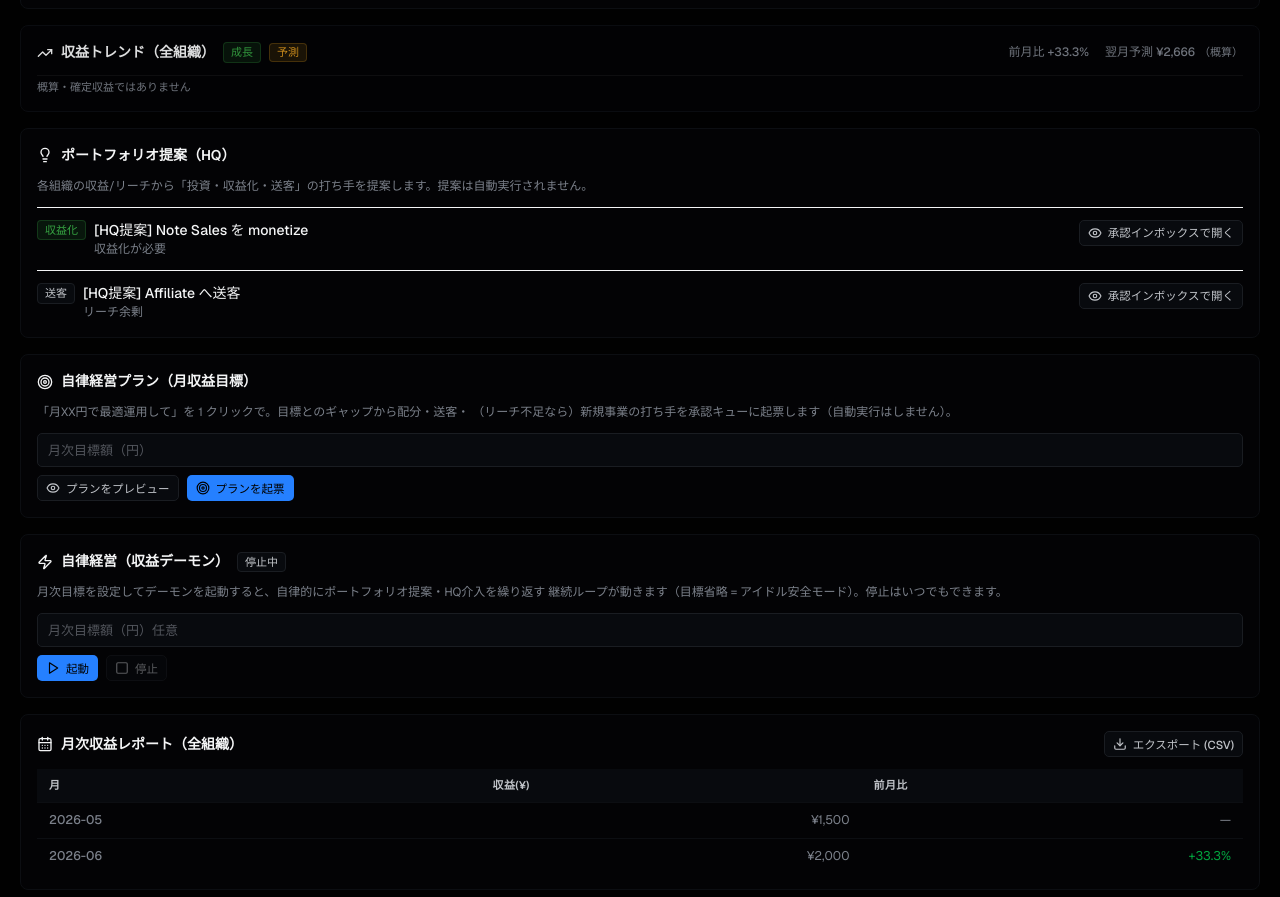
Test: 目標到達の見通し（projection card） › 到達不可ケース: months_to_target=null のとき「現トレンドでは到達見込みなし」を表示する
(page scrolled)
Expected: the text "自律経営プラン（月収益目標）" is shown, [61,371,257,392]
Type "100000" into the number field with placeholder "月次目標額（円）" at (640, 450), box [37,433,1243,467]
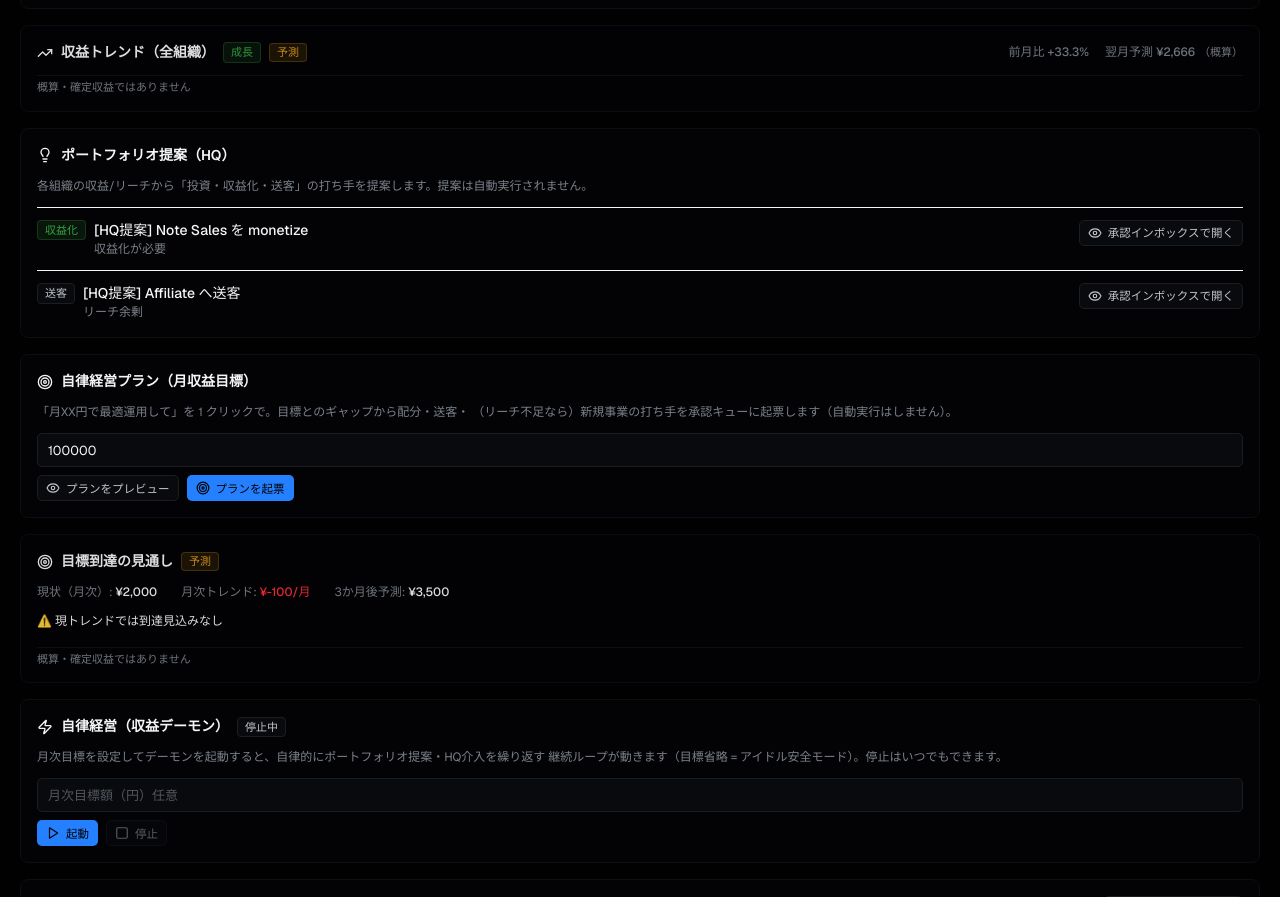
Result: the text "⚠️ 現トレンドでは到達見込みなし" is shown at [37,614,223,630]
